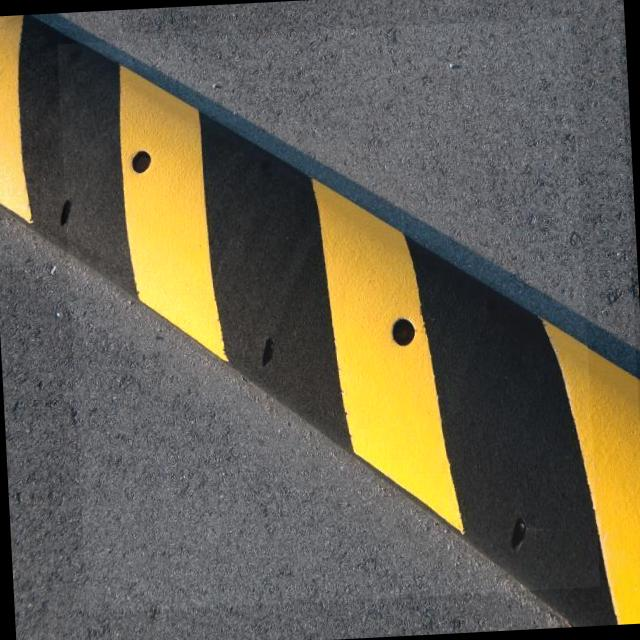bump: (57, 18, 600, 614)
